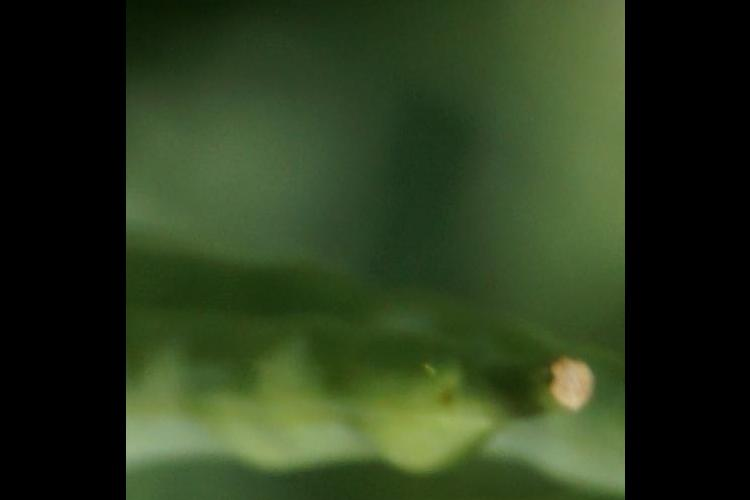bud: (185, 296, 597, 500)
